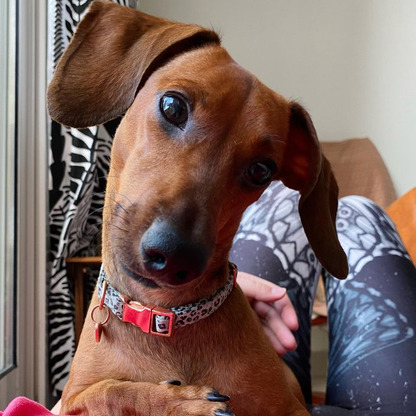dachshund: (57, 8, 342, 387)
